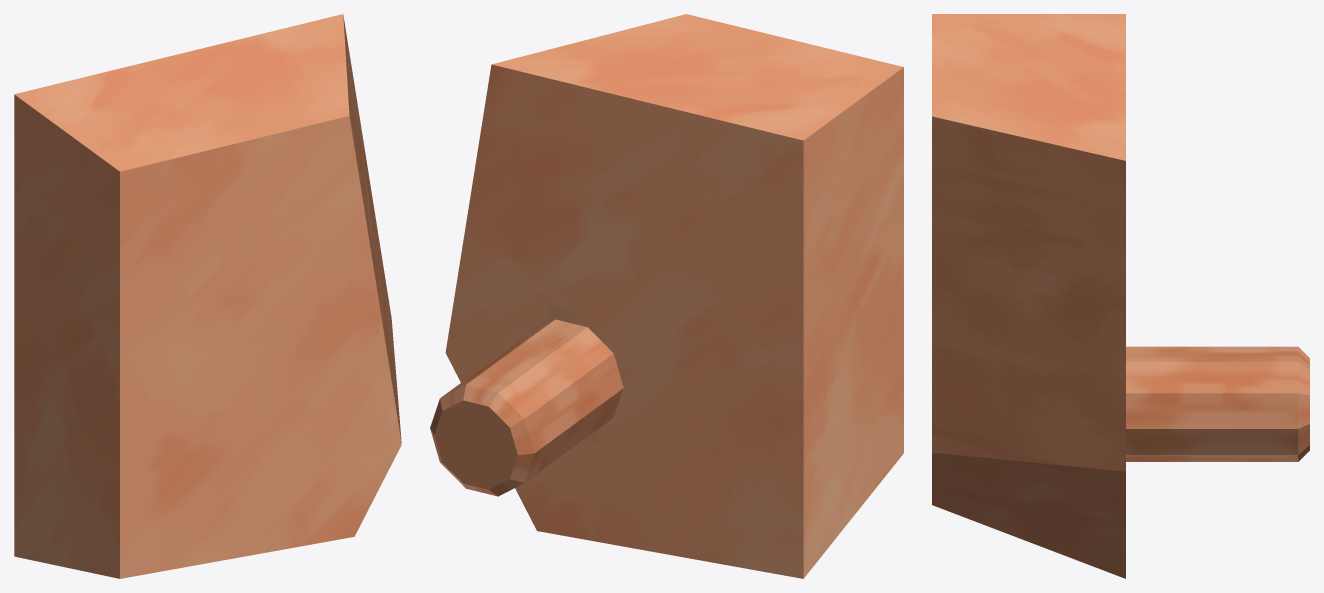
File: wall_window_s09.fbx
3 views of the same model, side by side, from view 1: azimuth 30°, elevation 25°; view 2: azimuth 150°, elevation 25°; view 3: azimuth 270°, elevation 25° (orthographic). The views are drawn at different scales.
Visible parts, largest first — view 1: wall_window_s09; view 2: wall_window_s09; view 3: wall_window_s09.
Boxes of the visible parts, x1,y1,x2,y2 form: wall_window_s09: [14, 14, 401, 578]; wall_window_s09: [430, 14, 903, 578]; wall_window_s09: [932, 14, 1309, 578].
Size of the model in its own units: 2.06 by 2.5 by 1.95.
